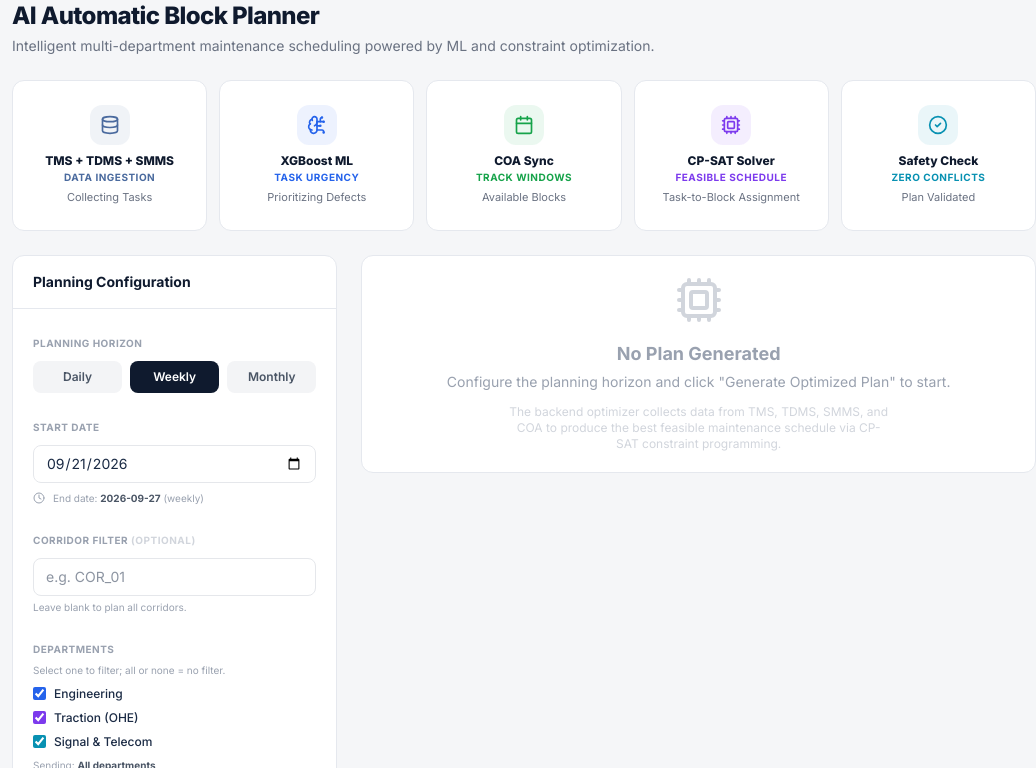
Test: PlannerPage — Generate Plan Integration › shows plan ready card when polling resolves to ready
This screenshot has width=1036, height=768.
Type "2026-08-25" into the date field labelled "Start Date" at (175, 464), box [33,444,316,482]
(page scrolled)
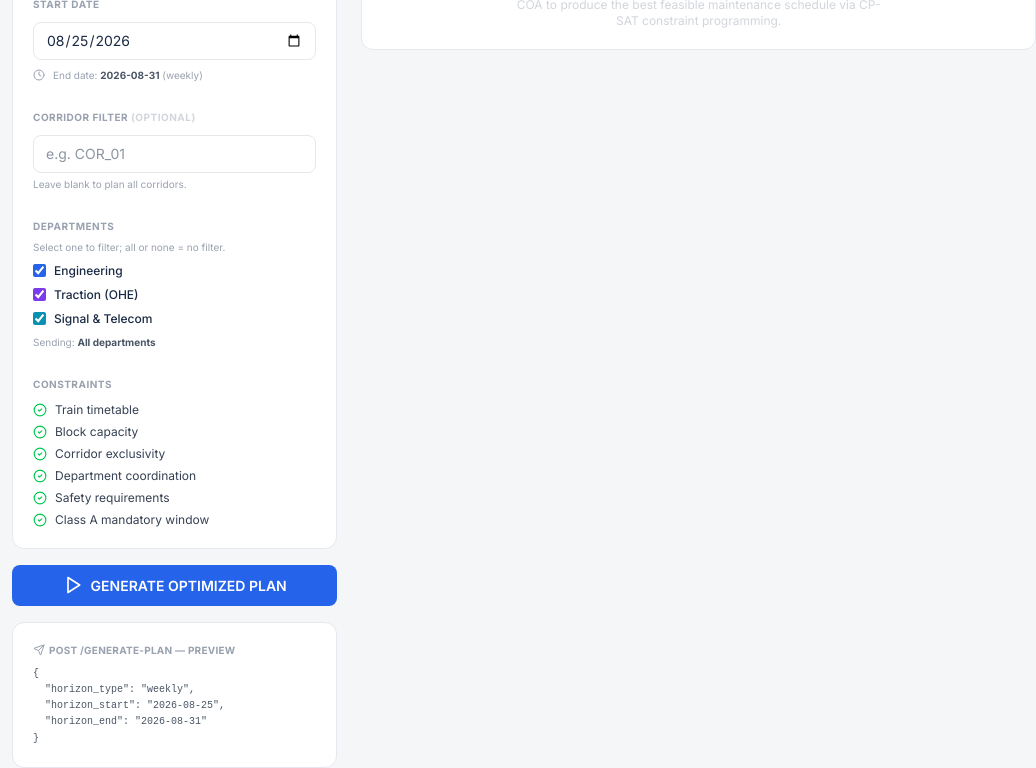
Click the button "GENERATE OPTIMIZED PLAN" at (175, 585), box [12,564,337,606]
(page scrolled)
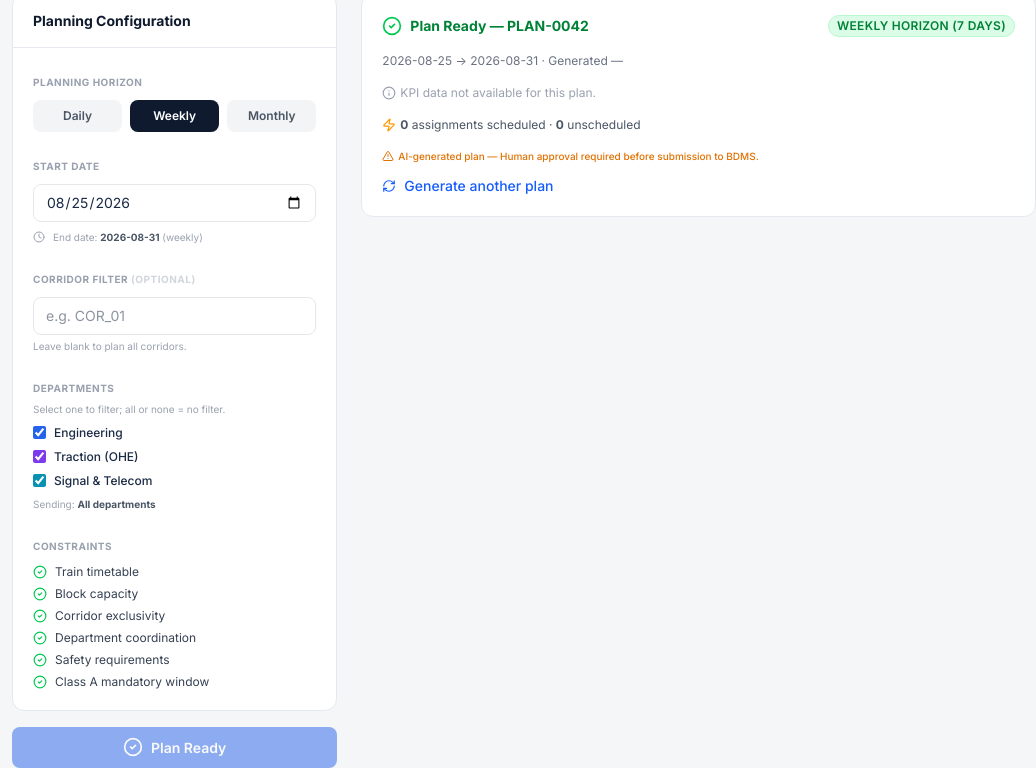
Check: the button "Plan Ready" is disabled, box [12,726,337,767]
